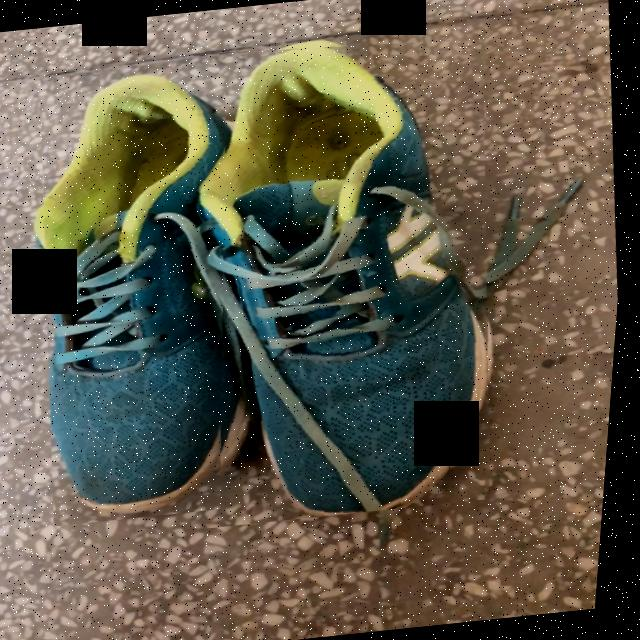shoe: (197, 45, 496, 514), (47, 89, 231, 516)
